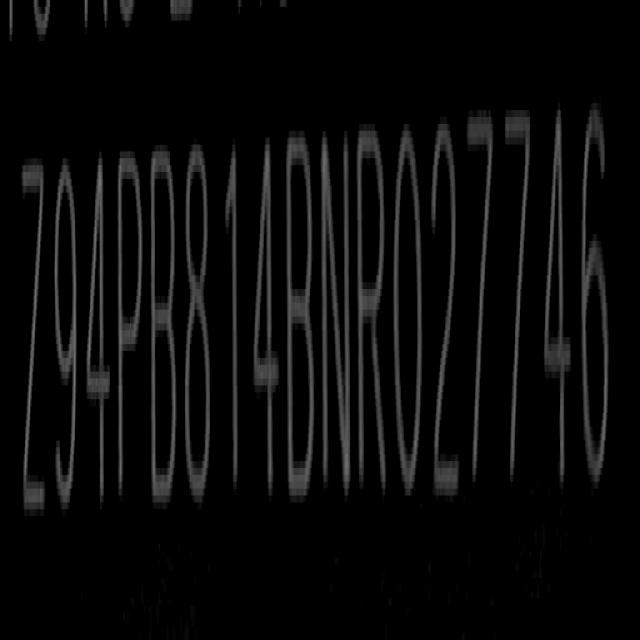0: (394, 119, 427, 507)
1: (224, 138, 244, 513)
2: (430, 111, 464, 509)
4: (543, 90, 575, 502), (252, 134, 282, 511), (86, 151, 115, 523)
6: (582, 101, 615, 500)
7: (505, 98, 536, 508), (465, 102, 495, 511)
8: (186, 142, 215, 511)
9: (50, 155, 78, 531)
B: (286, 126, 320, 507), (148, 143, 178, 517)
N: (321, 120, 353, 508)
P: (116, 147, 145, 518)
R: (356, 120, 388, 503)
Z: (20, 149, 48, 541)
